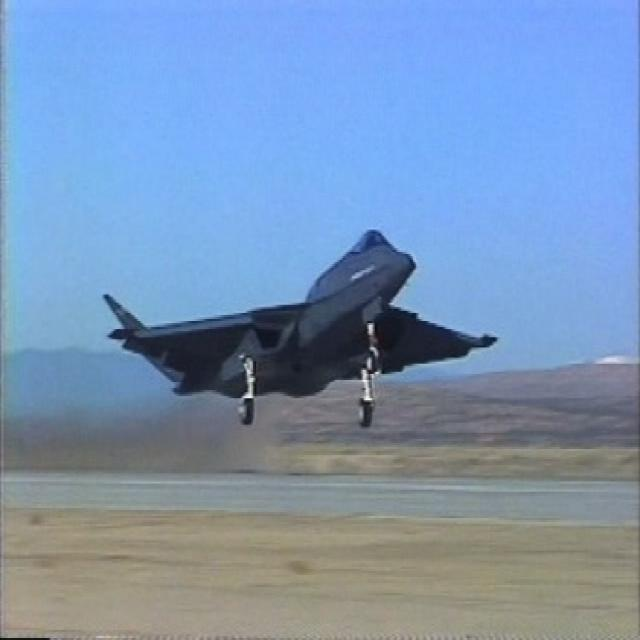MIL_Plane: (102, 228, 500, 430)
